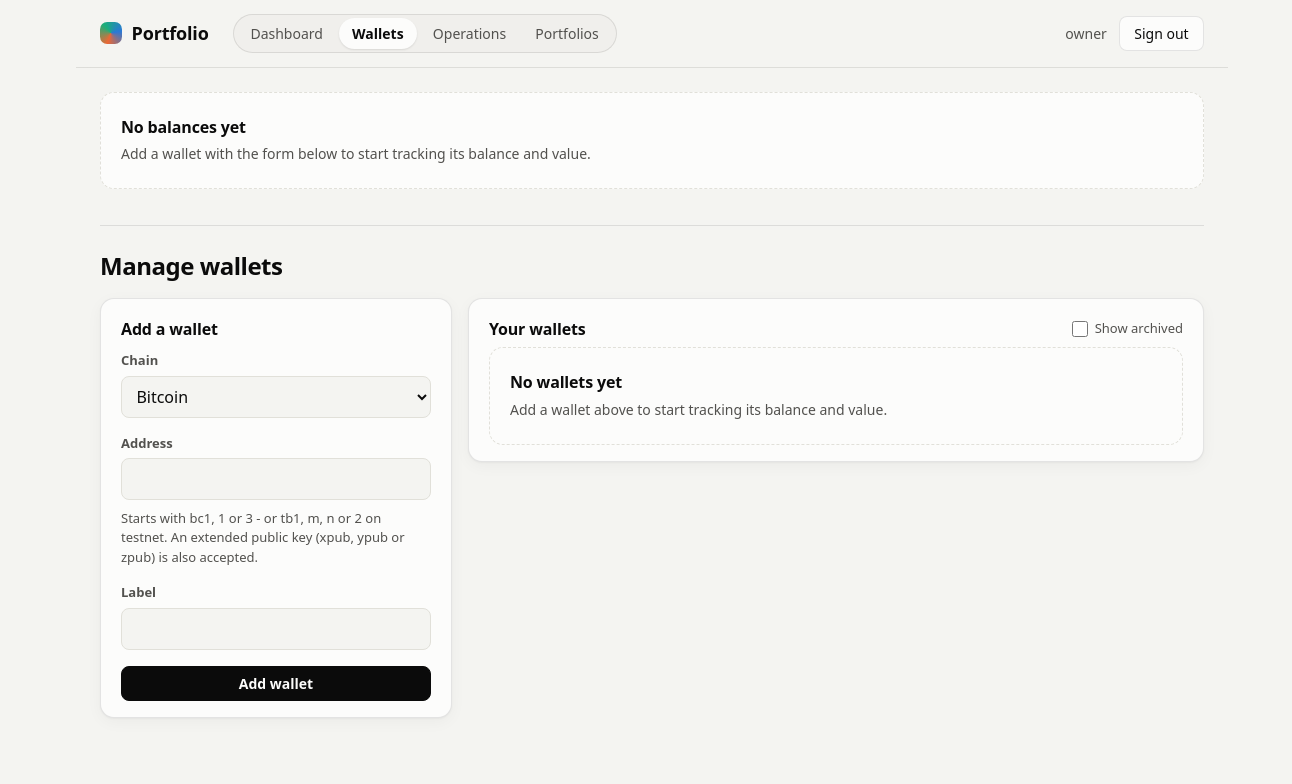
Test: WalletsPage: add › disables the submit button while the request is in flight
Expected: the heading "No wallets yet" is shown, 510,371 -> 622,393
Type "tb1qw508d6qejxtdg4y5r3zarvary0c5xw7kxpjzsx" into the field labelled "Address".
click(276, 479); type("tb1qw508d6qejxtdg4y5r3zarvary0c5xw7kxpjzsx")  # box 121,458 -> 431,500
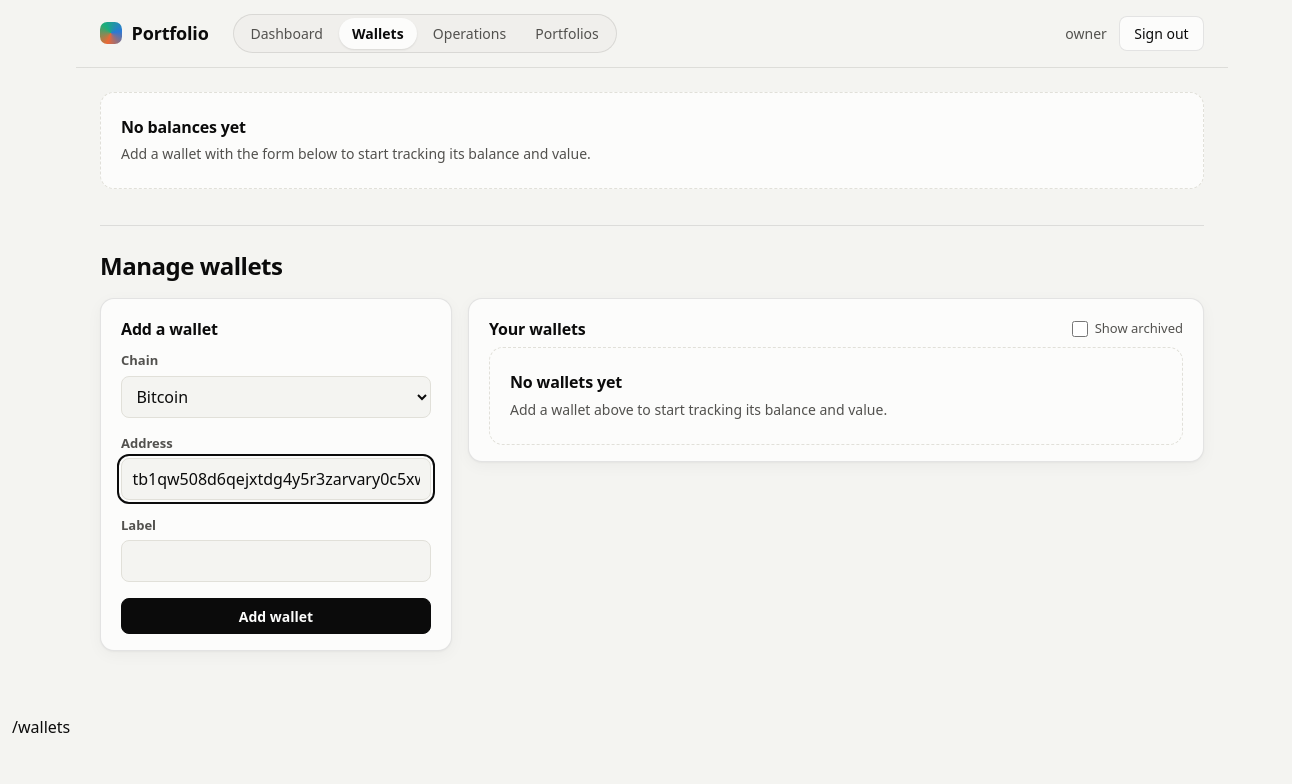
Click the button "Add wallet".
click(276, 616)  # box 121,598 -> 431,634
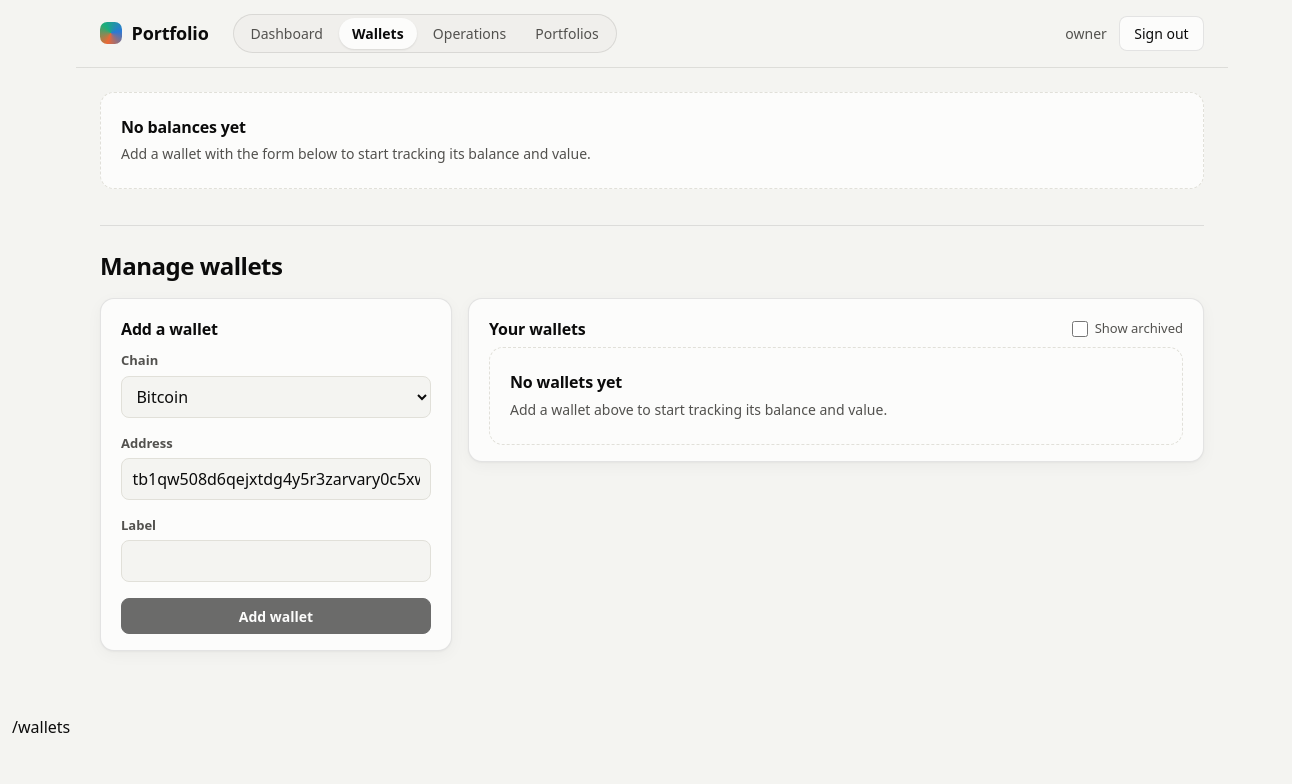
Result: the button "Add wallet" is disabled
A second press while the first is in flight sends nothing.
Click the button "Add wallet".
click(276, 616)  # box 121,598 -> 431,634
(page scrolled)
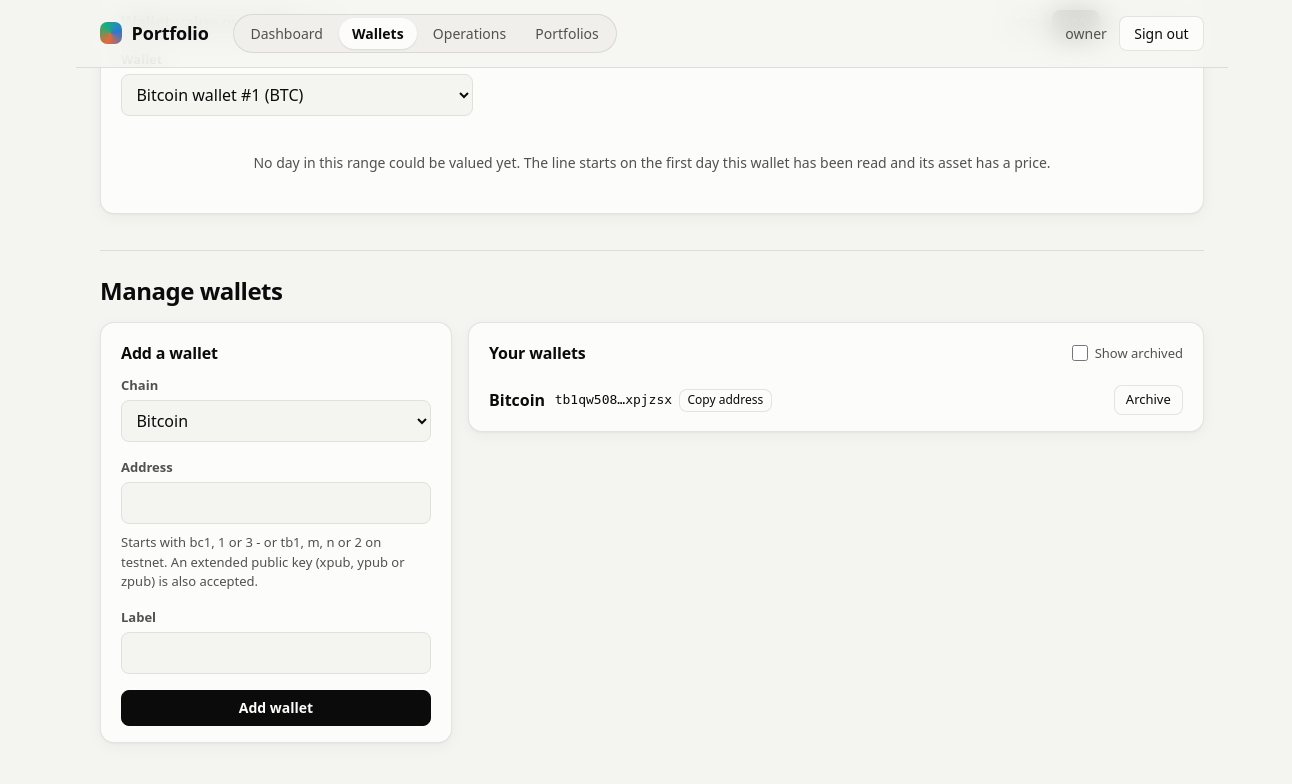
Result: the button "Add wallet" is enabled at 121,690 -> 431,726
Result: the text titled "tb1qw508d6qejxtdg4y5r3zarvary0c5xw7kxpjzsx" is shown at 555,390 -> 672,410
